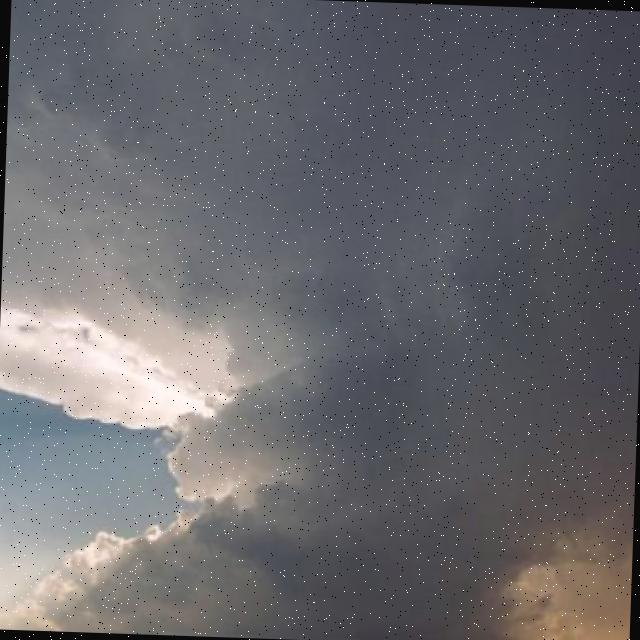Cb: (1, 36, 640, 640)
